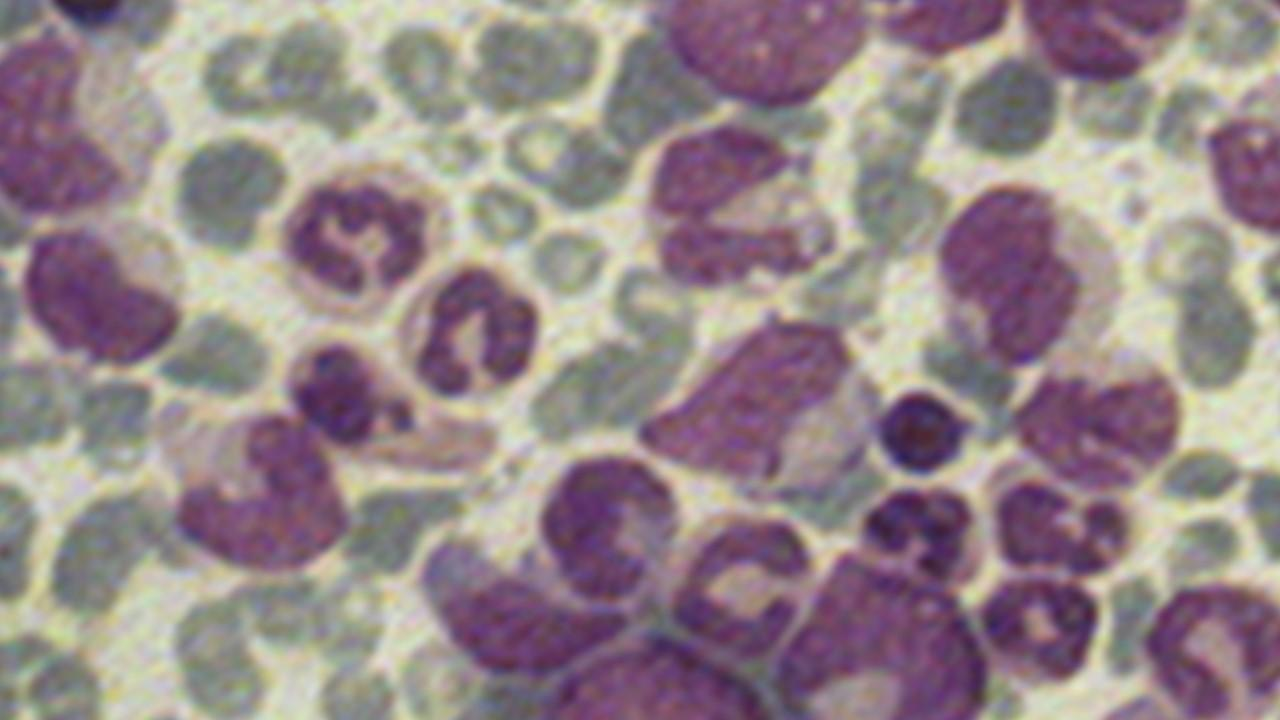RBC: (1, 624, 110, 716)
